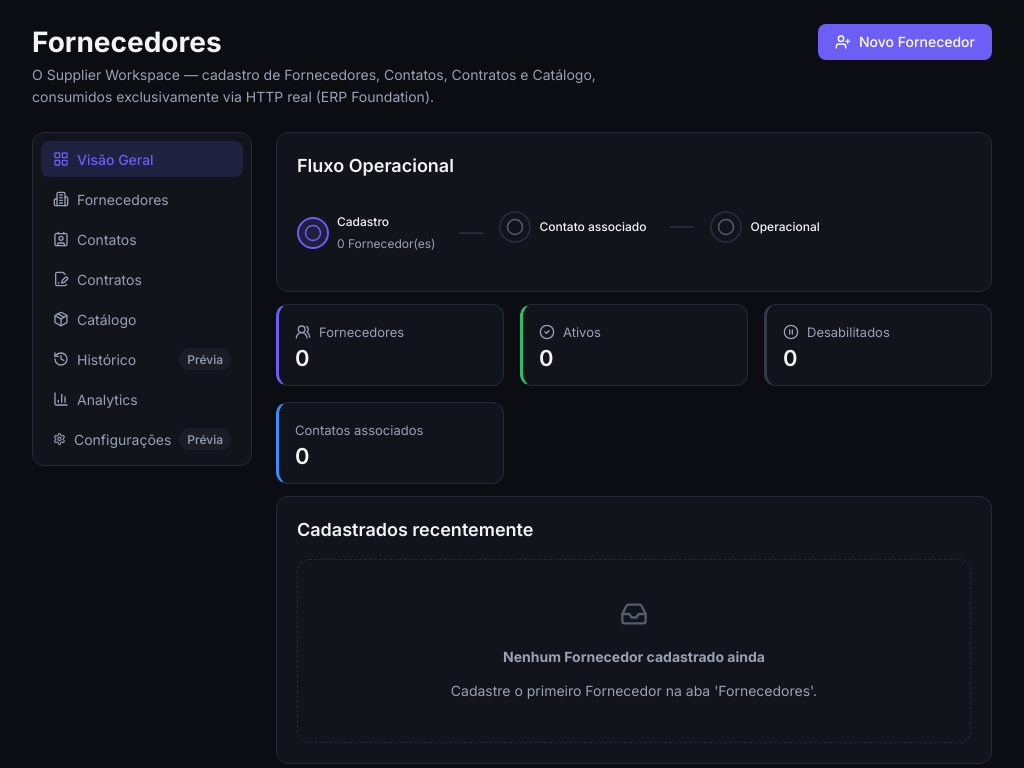
it: SupplierPage — Supplier Workspace por seções (IMP-205) › a Ação Rápida 'Novo Fornecedor' do PageHeader funciona a partir de qualquer aba, sem exigir navegar até Fornecedores primeiro (UX-002)
This screenshot has width=1024, height=768.
Expected: the button "Visão Geral" is shown, [41,141,243,177]
Click the button "Analytics": point(142, 399) [41,381,243,417]
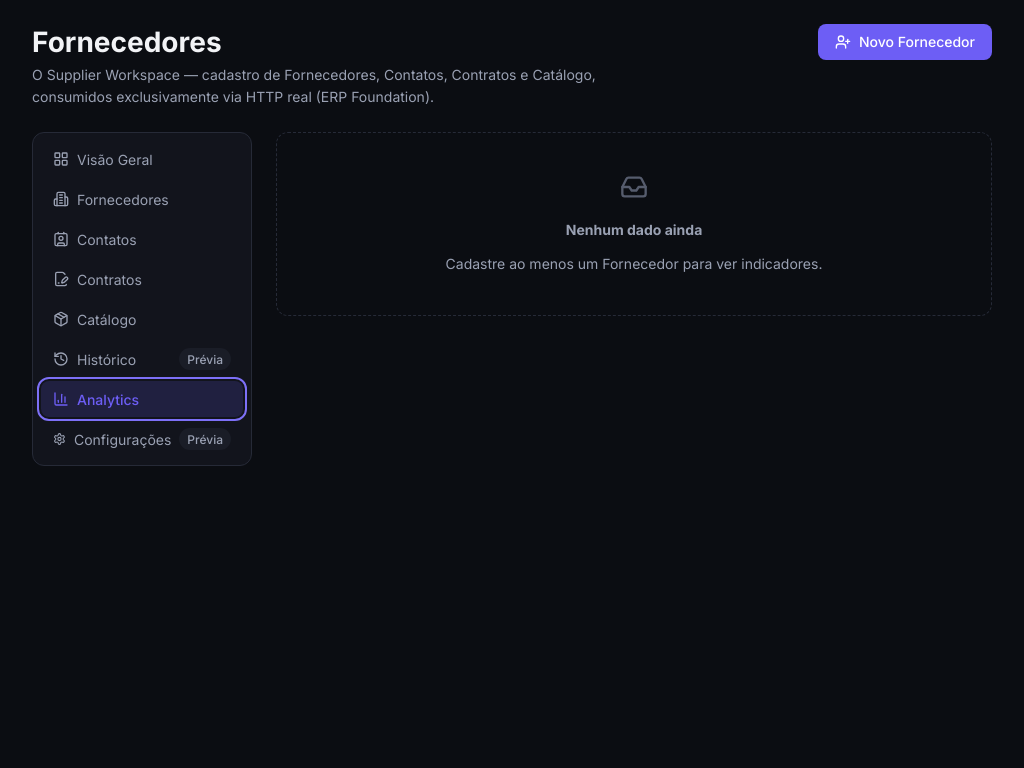
Click the button "Novo Fornecedor": point(905, 42) [818,24,992,60]
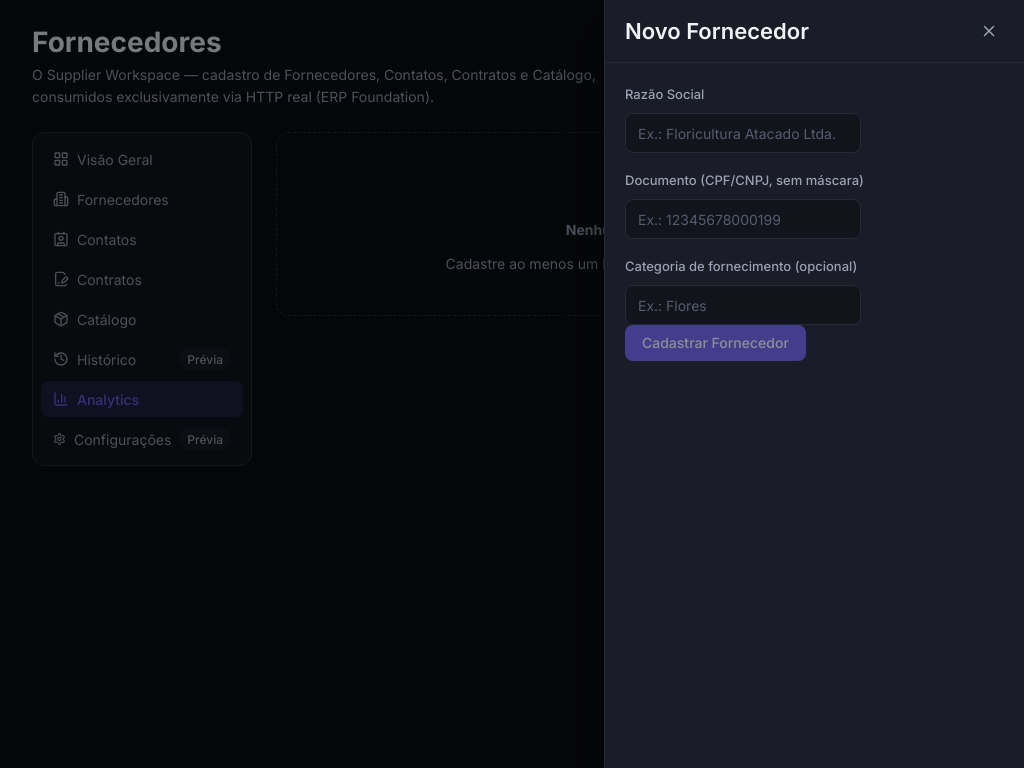
In the field labelled "Razão Social": point(743, 133) [625,113,861,153], type "Criado a partir de Analytics"
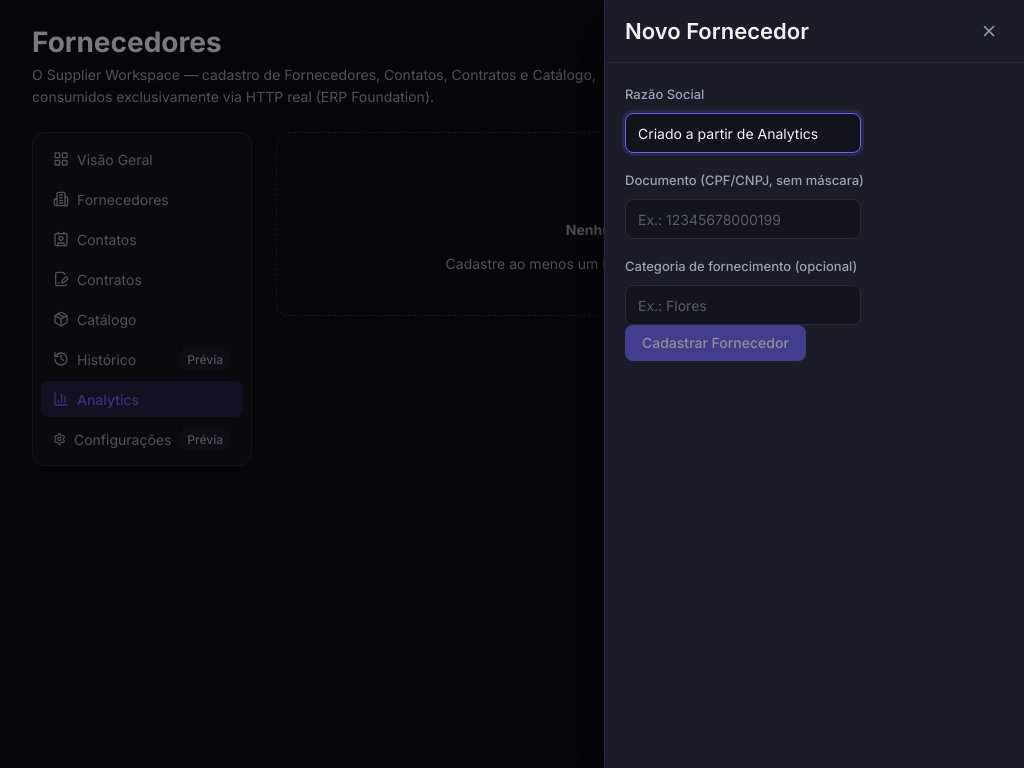
In the field labelled "Documento (CPF/CNPJ, sem máscara)": point(743, 219) [625,199,861,239], type "12345678000199"
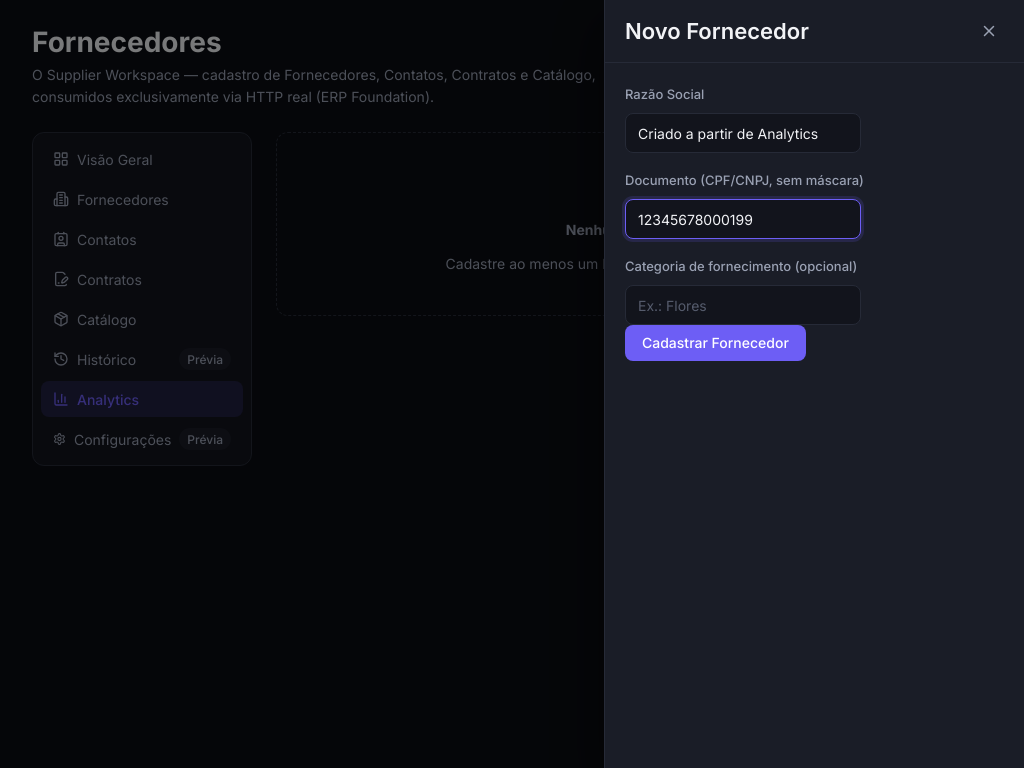
Click the button "Cadastrar Fornecedor": point(715, 343) [625,325,806,361]
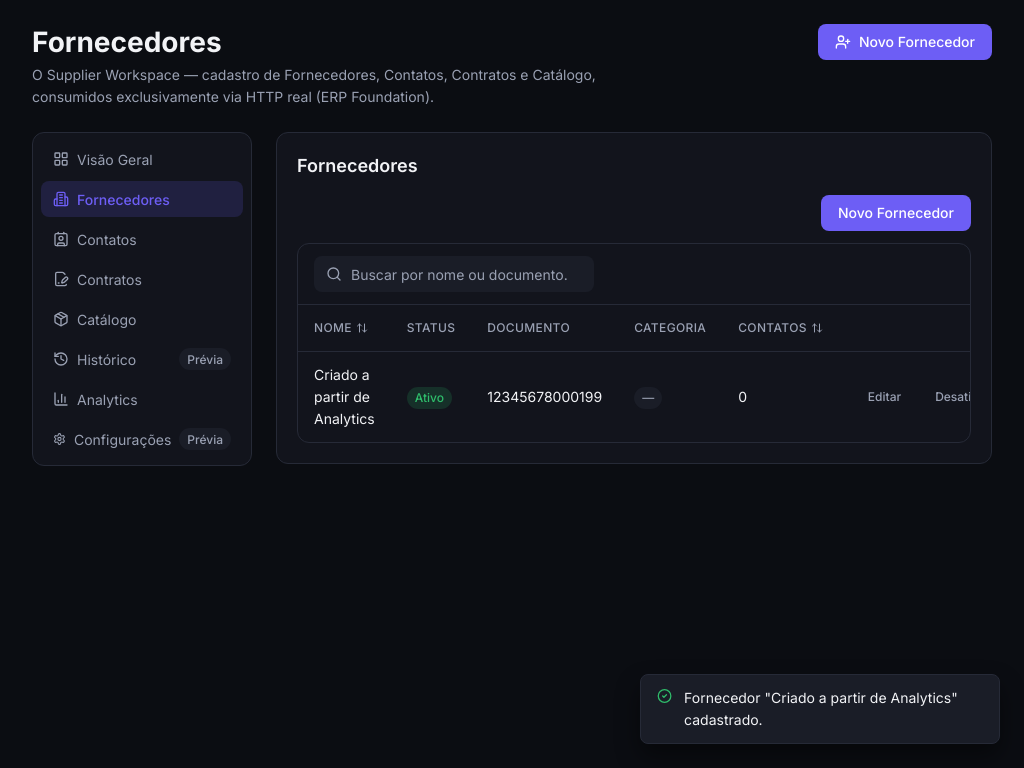
Expected: the text "Criado a partir de Analytics" is shown, [298,352,391,442]
